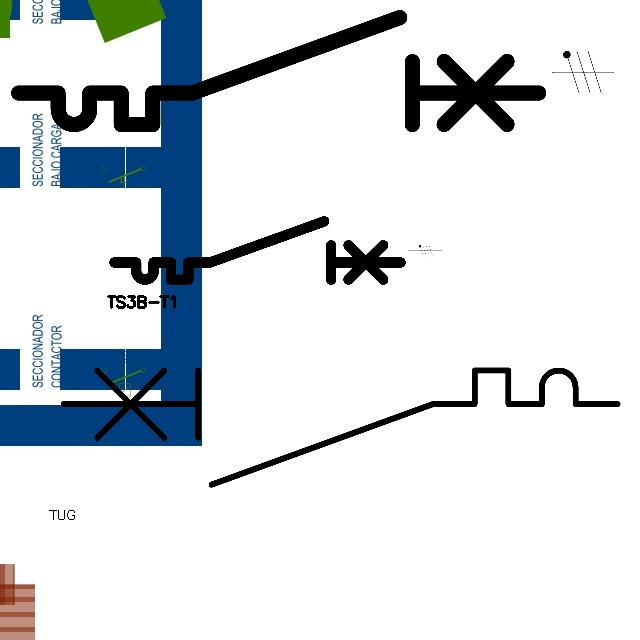interruptor_termomagnetico: (49, 356, 632, 499), (5, 4, 552, 138), (107, 214, 408, 287)
